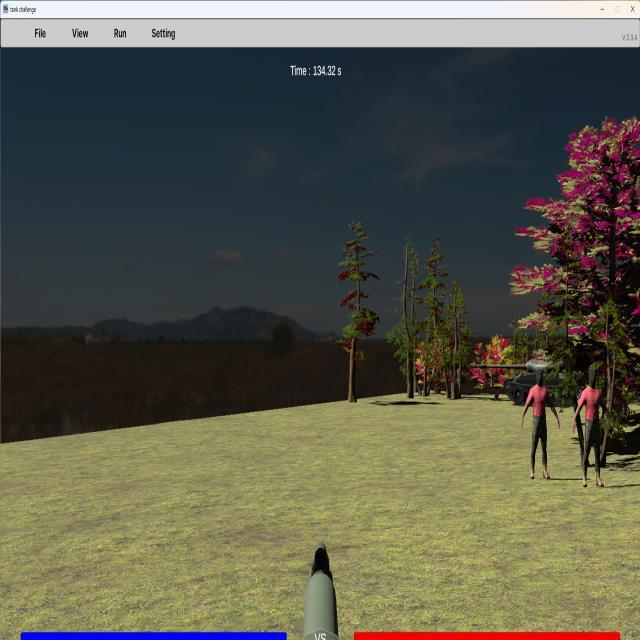Human: (574, 365, 614, 488), (521, 368, 560, 479)
Tank: (469, 357, 599, 407)
